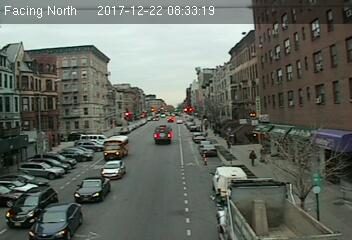car: (7, 184, 57, 230), (28, 201, 84, 240), (75, 175, 110, 203), (101, 159, 126, 179), (201, 145, 217, 156)
truck: (213, 178, 334, 240), (209, 166, 249, 197), (103, 135, 129, 160), (153, 124, 172, 144)
